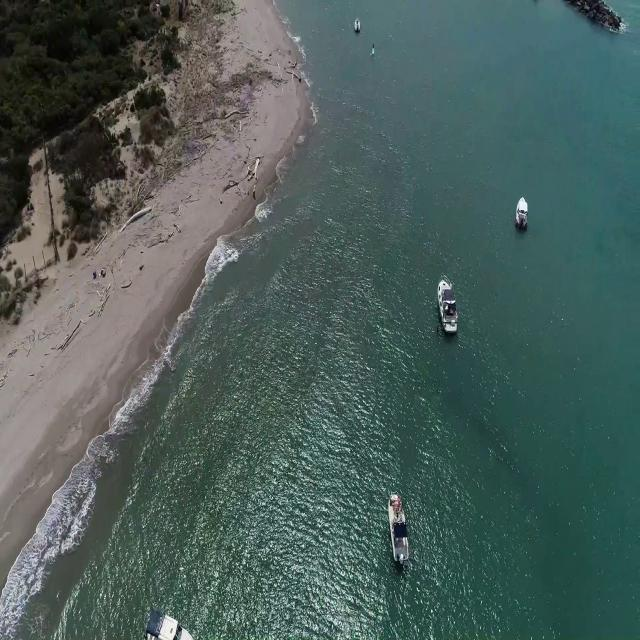boat: (388, 489, 410, 568), (437, 274, 460, 337), (147, 612, 193, 640), (516, 198, 530, 233), (352, 17, 361, 34)
person: (372, 40, 378, 51)
surfboard: (370, 48, 377, 60)
wood: (220, 156, 262, 202)
